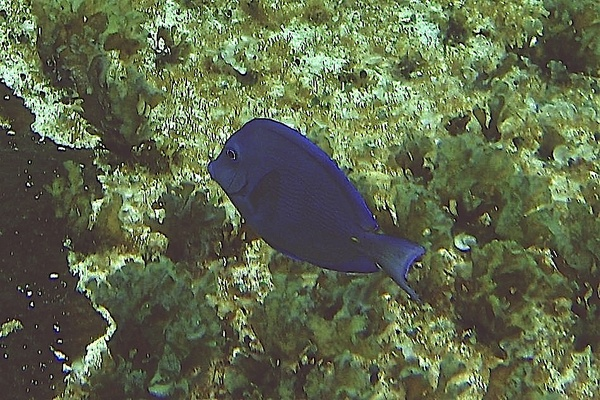Acanthurus_coeruleus: (205, 117, 427, 302)
